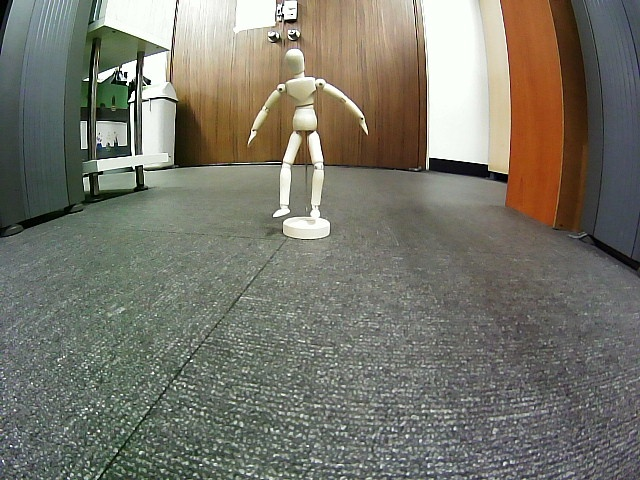person: (245, 48, 368, 218)
